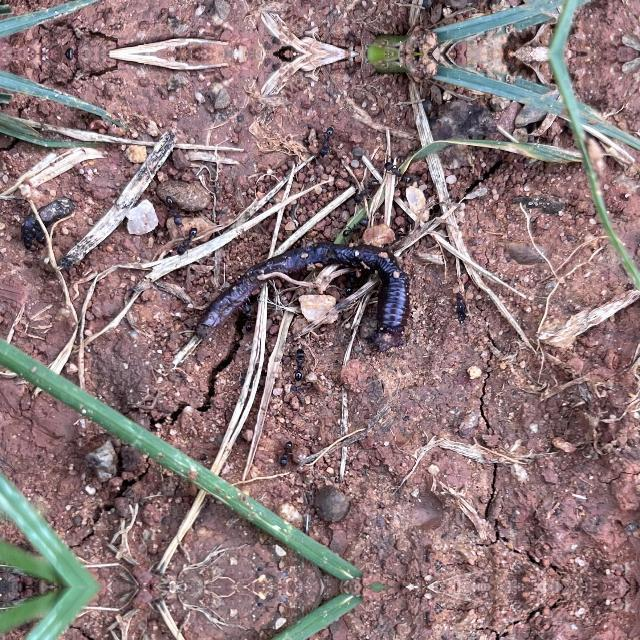Tetramorium: (382, 160, 424, 192), (282, 338, 308, 382), (310, 122, 338, 158), (158, 194, 186, 230), (352, 173, 388, 199), (173, 230, 203, 260), (274, 432, 294, 470), (342, 208, 368, 236), (342, 268, 362, 294), (394, 226, 412, 238)
